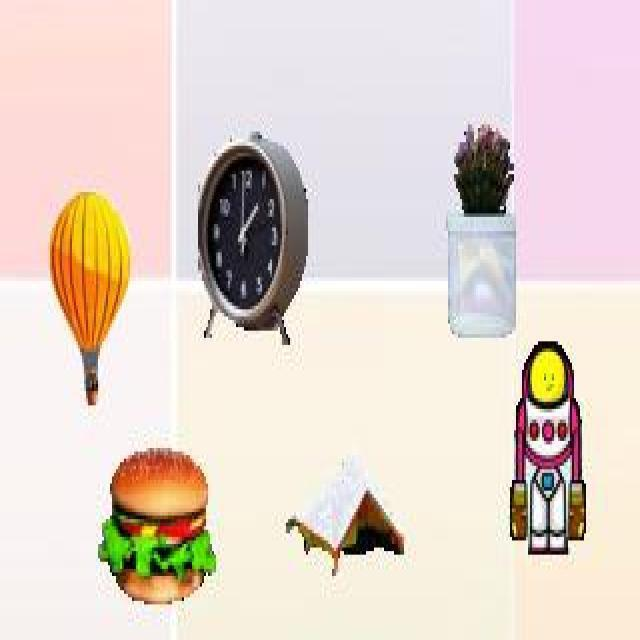Other Objects: (198, 128, 309, 348), (98, 448, 217, 606), (49, 194, 133, 408), (509, 340, 585, 556), (445, 121, 517, 337)
